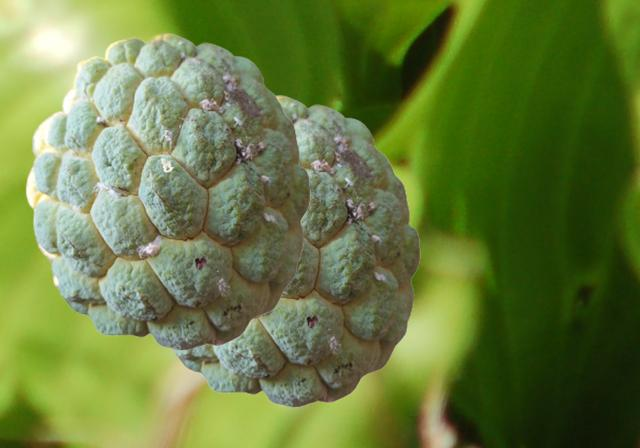atis: (25, 33, 309, 349), (171, 95, 419, 406)
